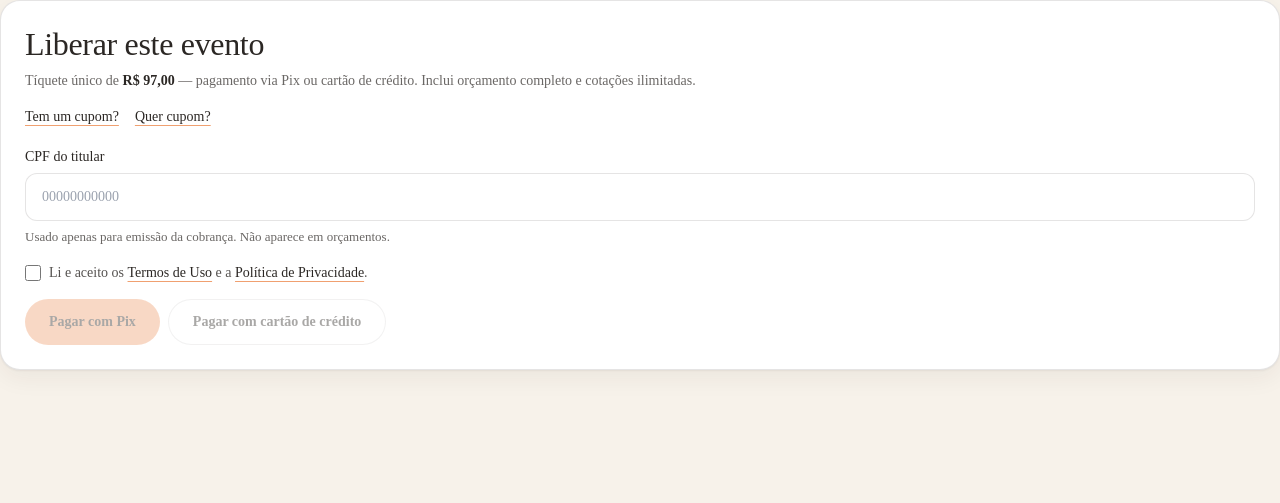
Test: 'Tem um cupom?' e 'Quer cupom?' em todos os checkouts › evento avulso
Expected: the field labelled "Código do cupom" is not shown
Click the button "Tem um cupom?" at (72, 117), box [25,107,119,127]
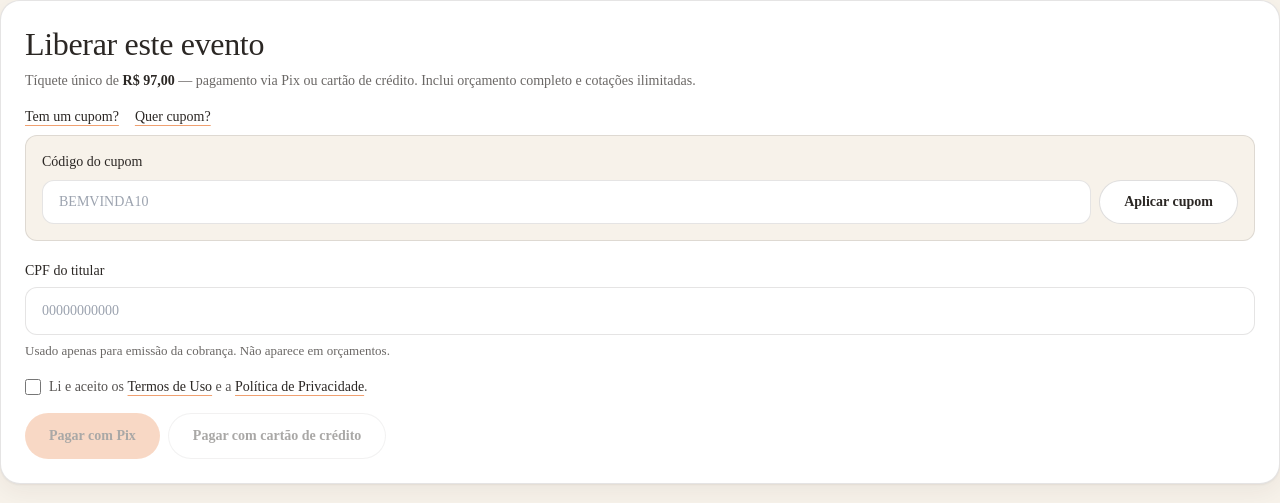
Expected: the button "Quer cupom?" is shown, [135,107,211,127]
Result: the field labelled "Código do cupom" is shown at [42,180,1091,224]
Result: the button "Aplicar cupom" is shown at [1099,180,1238,224]
